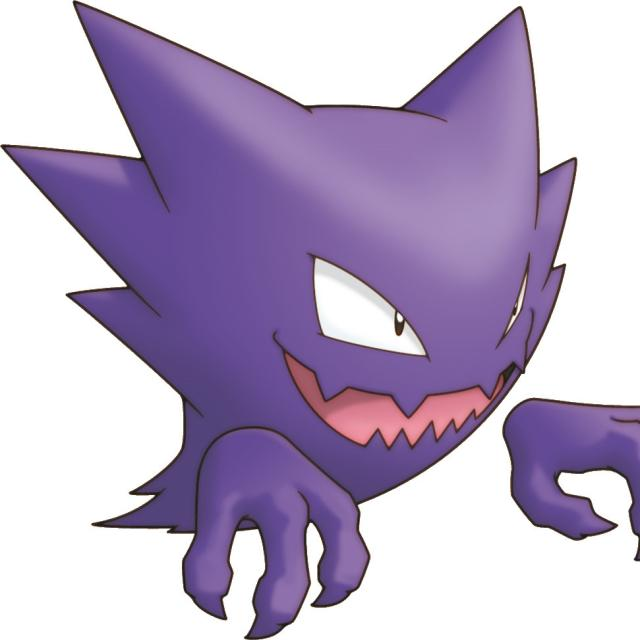Haunter: (64, 4, 584, 530)
